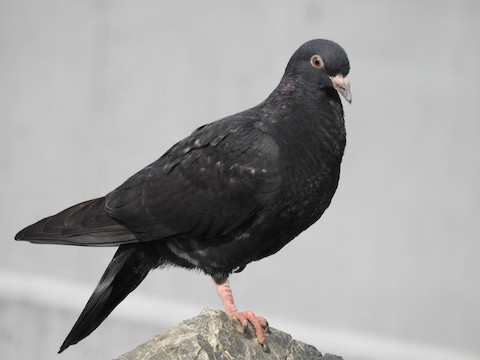pigeon: (14, 34, 360, 357)
